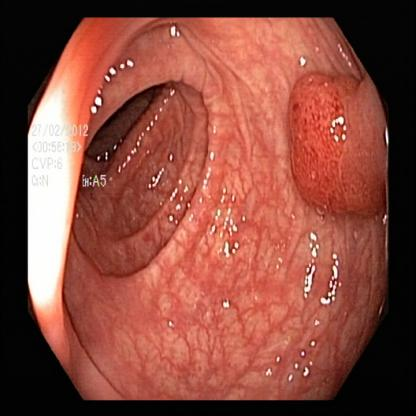Labels: (27, 117, 112, 204)
Polyps: (288, 68, 388, 223)
